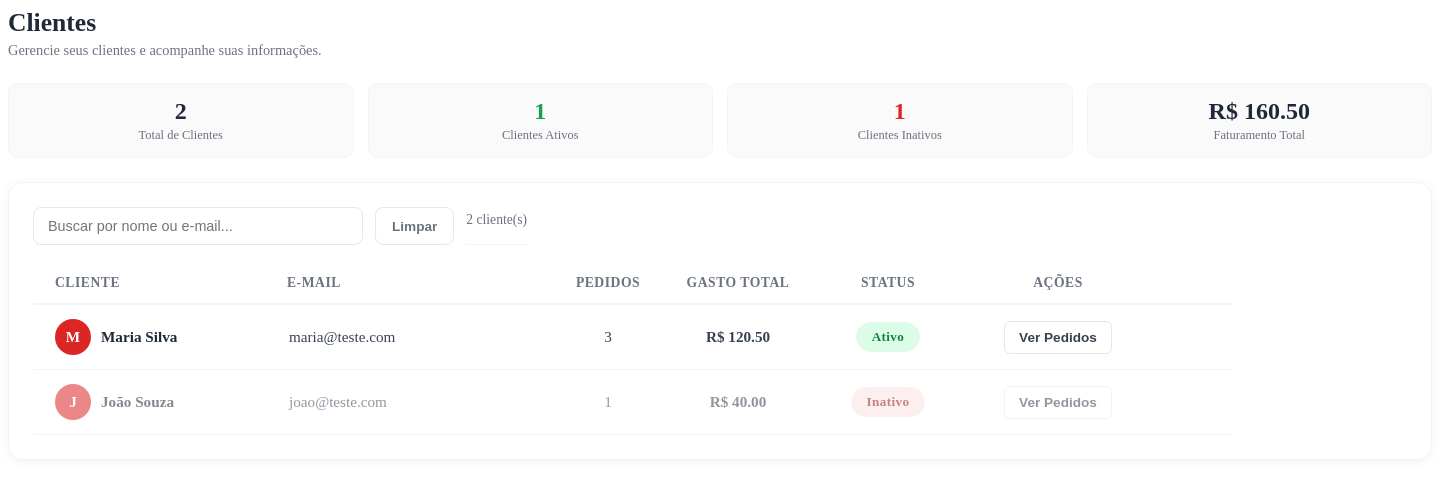
AdminClientes › botão Limpar reseta a busca
Expected: the text "Maria Silva" is shown, [101,328,177,346]
Step 1. Type "joao" into the field with placeholder "Buscar por nome ou e-mail..." → (198,226), box [33,207,363,245]
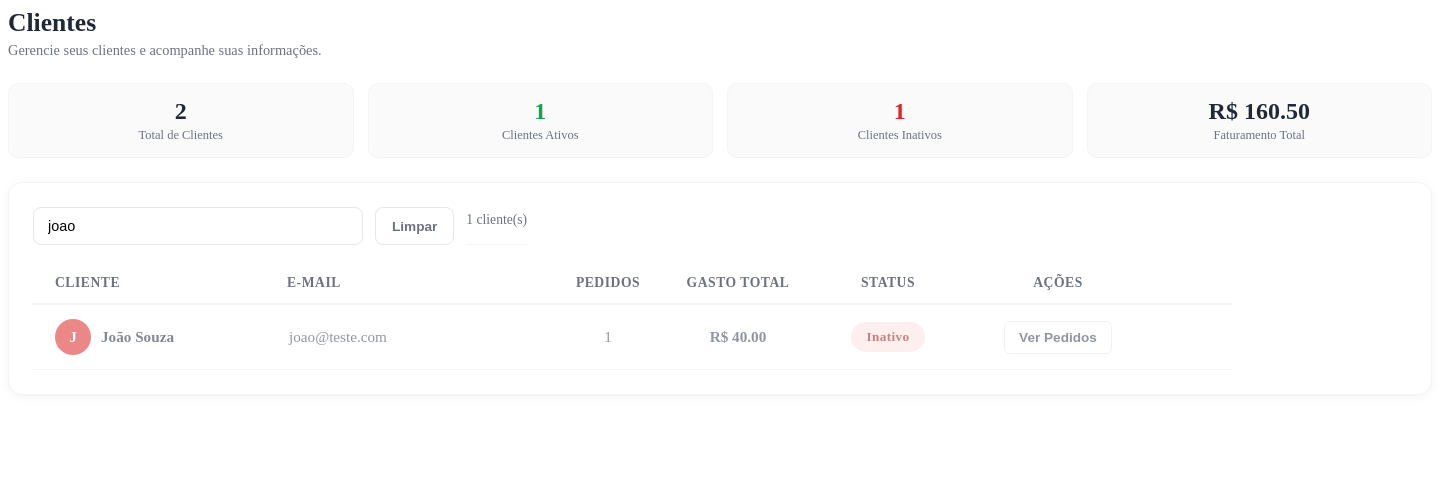
Step 2. Click the button "Limpar" → (415,226), box [375,207,454,245]
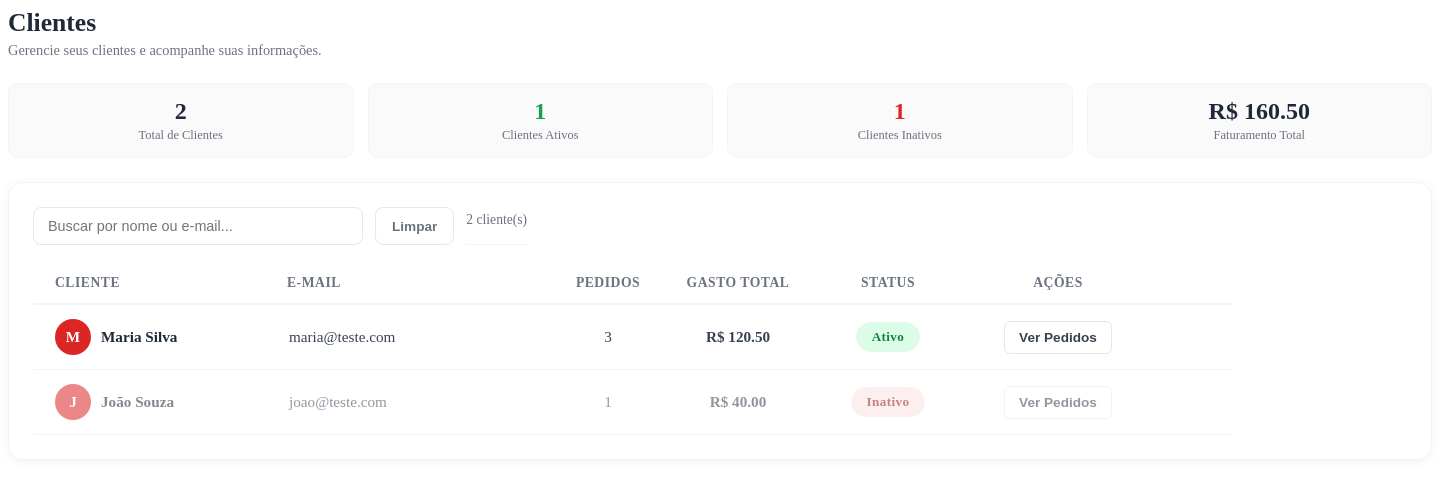
Expected: the field with placeholder "Buscar por nome ou e-mail..." is empty, [33,207,363,245]
Expected: the text "2 cliente(s)" is shown, [466,207,527,245]
